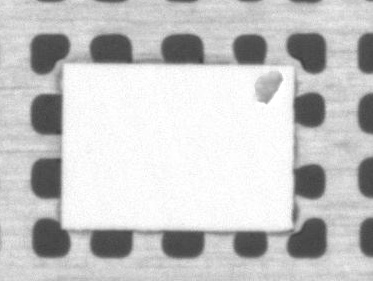DIE_INK: (253, 70, 283, 104)
